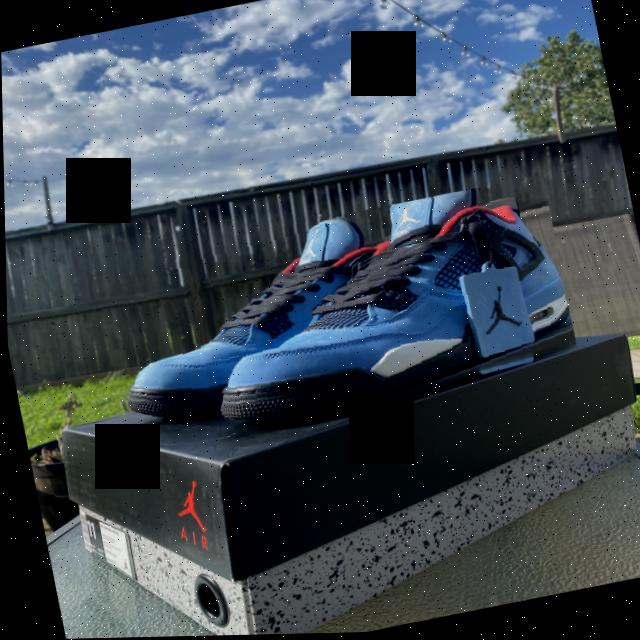shoe: (175, 176, 580, 441), (90, 220, 393, 430)
